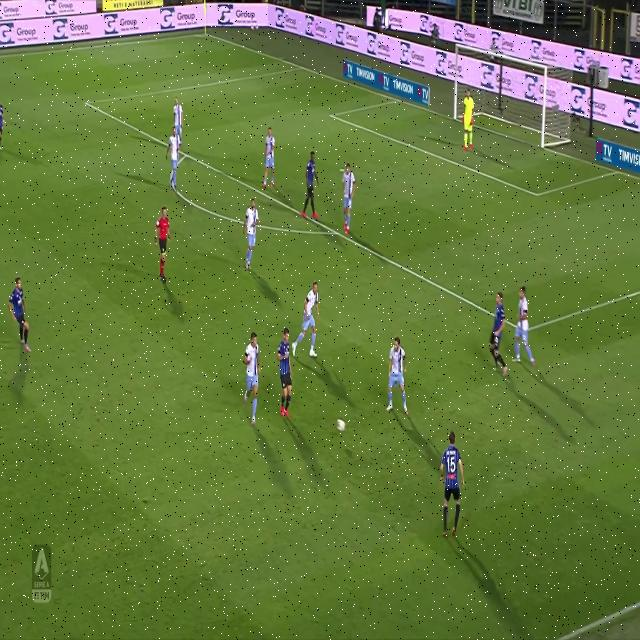Ball: (334, 416, 349, 436)
GoalKeeper: (464, 90, 476, 154)
TEAM 1: (296, 278, 322, 360), (389, 333, 409, 420), (244, 328, 261, 428), (516, 286, 536, 370), (164, 122, 185, 194), (242, 197, 260, 274), (170, 95, 190, 149), (341, 157, 354, 239), (263, 128, 277, 194)
TEAM 2: (439, 430, 467, 541), (488, 286, 514, 378), (273, 323, 297, 420), (6, 274, 34, 356), (304, 148, 321, 224), (1, 98, 8, 158)
